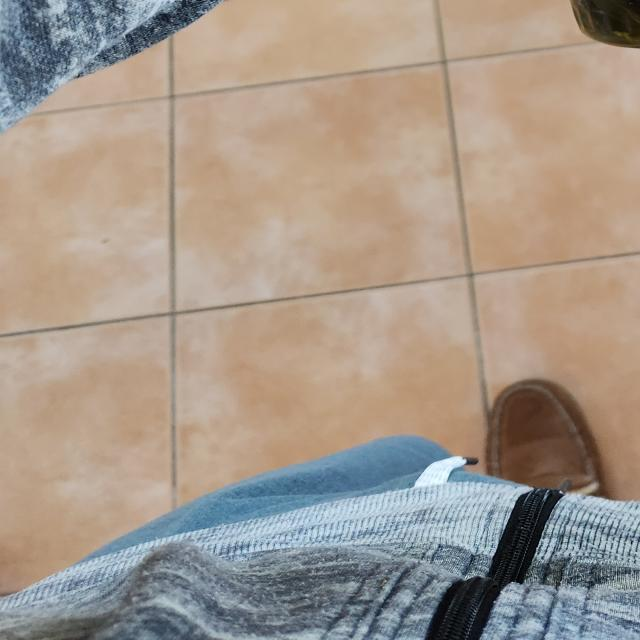jalapeno: (543, 0, 640, 48)
